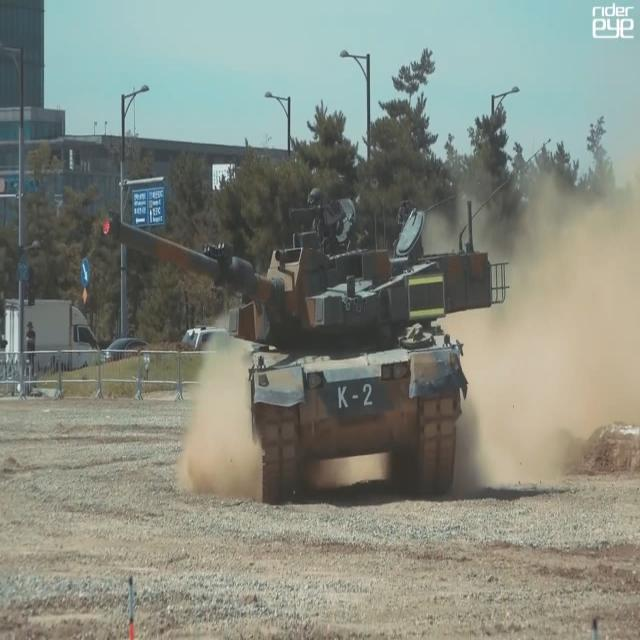korea tank: (103, 185, 511, 500)
